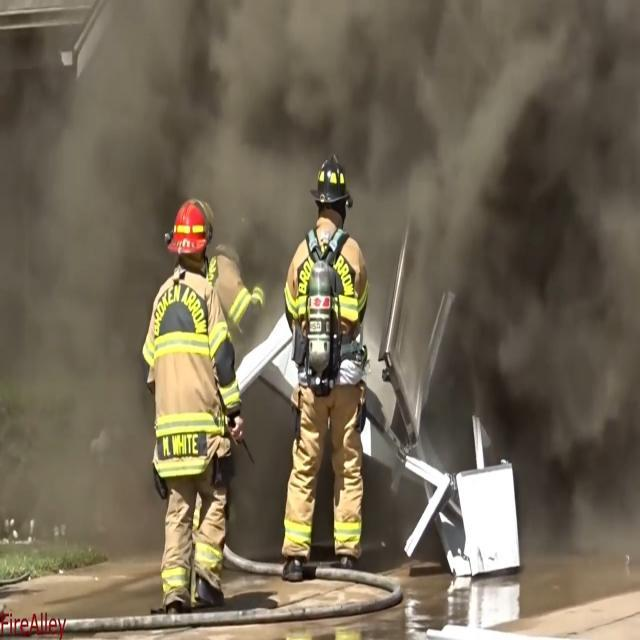Smoke: (434, 42, 628, 380)
